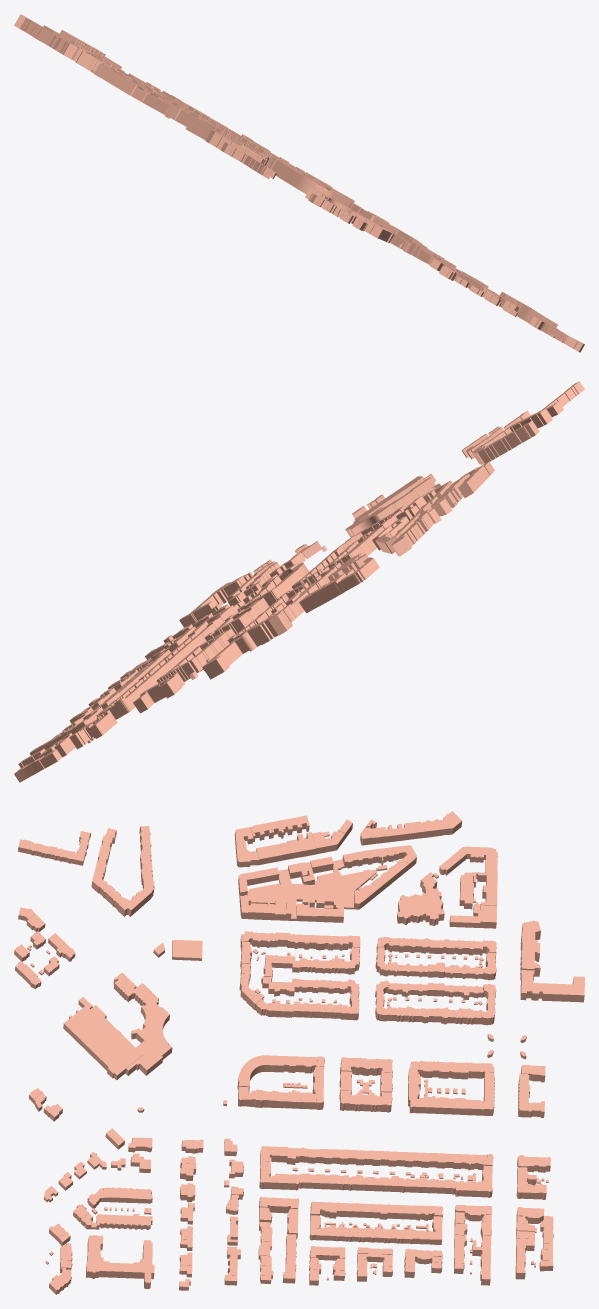
3 views of the same model, one above another, from view 1: azimuth 30°, elevation 25°; view 2: azimuth 150°, elevation 25°; view 3: azimuth 270°, elevation 25° (orthographic). The views are drawn at different scales.
Size of the model in its own units: 532 by 391 by 669.
